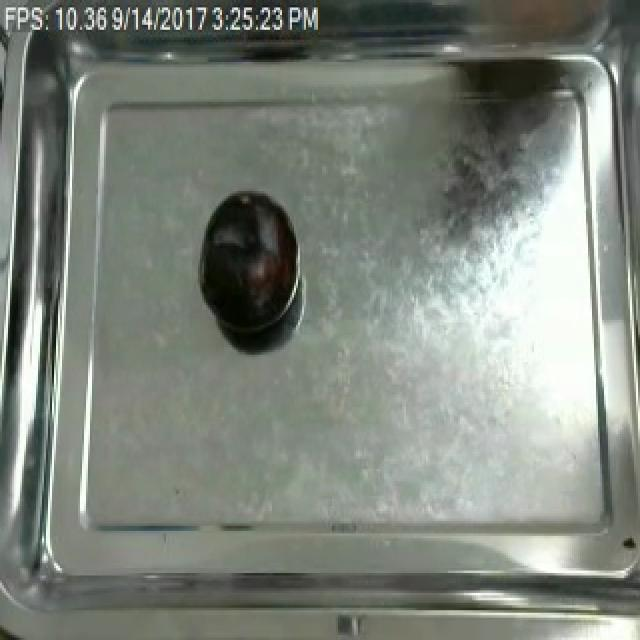Fruit: (192, 188, 300, 342)
